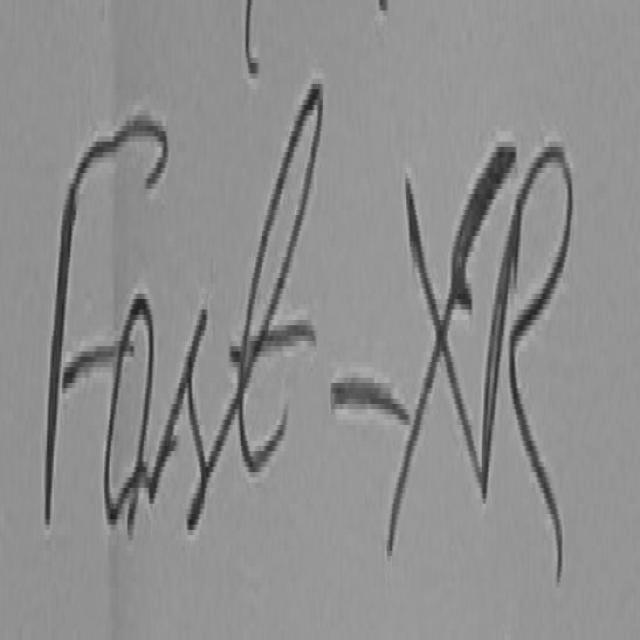F: (21, 69, 178, 575)
R: (467, 87, 604, 640)
X: (370, 105, 530, 603)
a: (89, 256, 172, 595)
s: (145, 275, 228, 620)
t: (216, 58, 350, 583)
